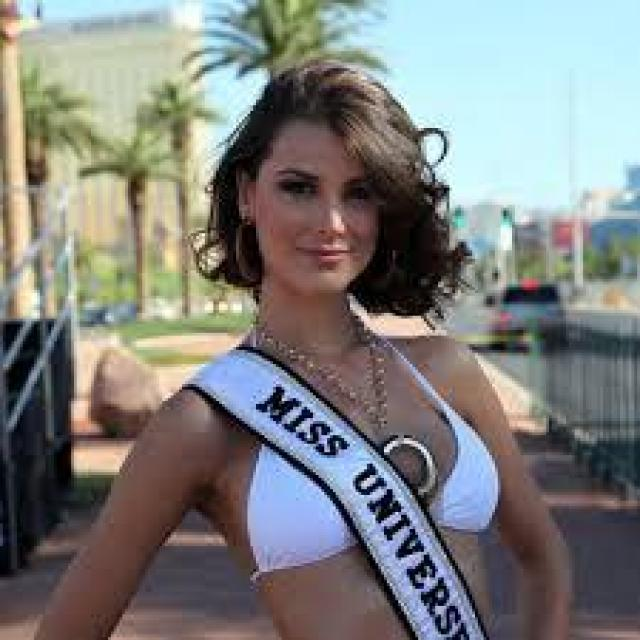person: (82, 60, 594, 637)
